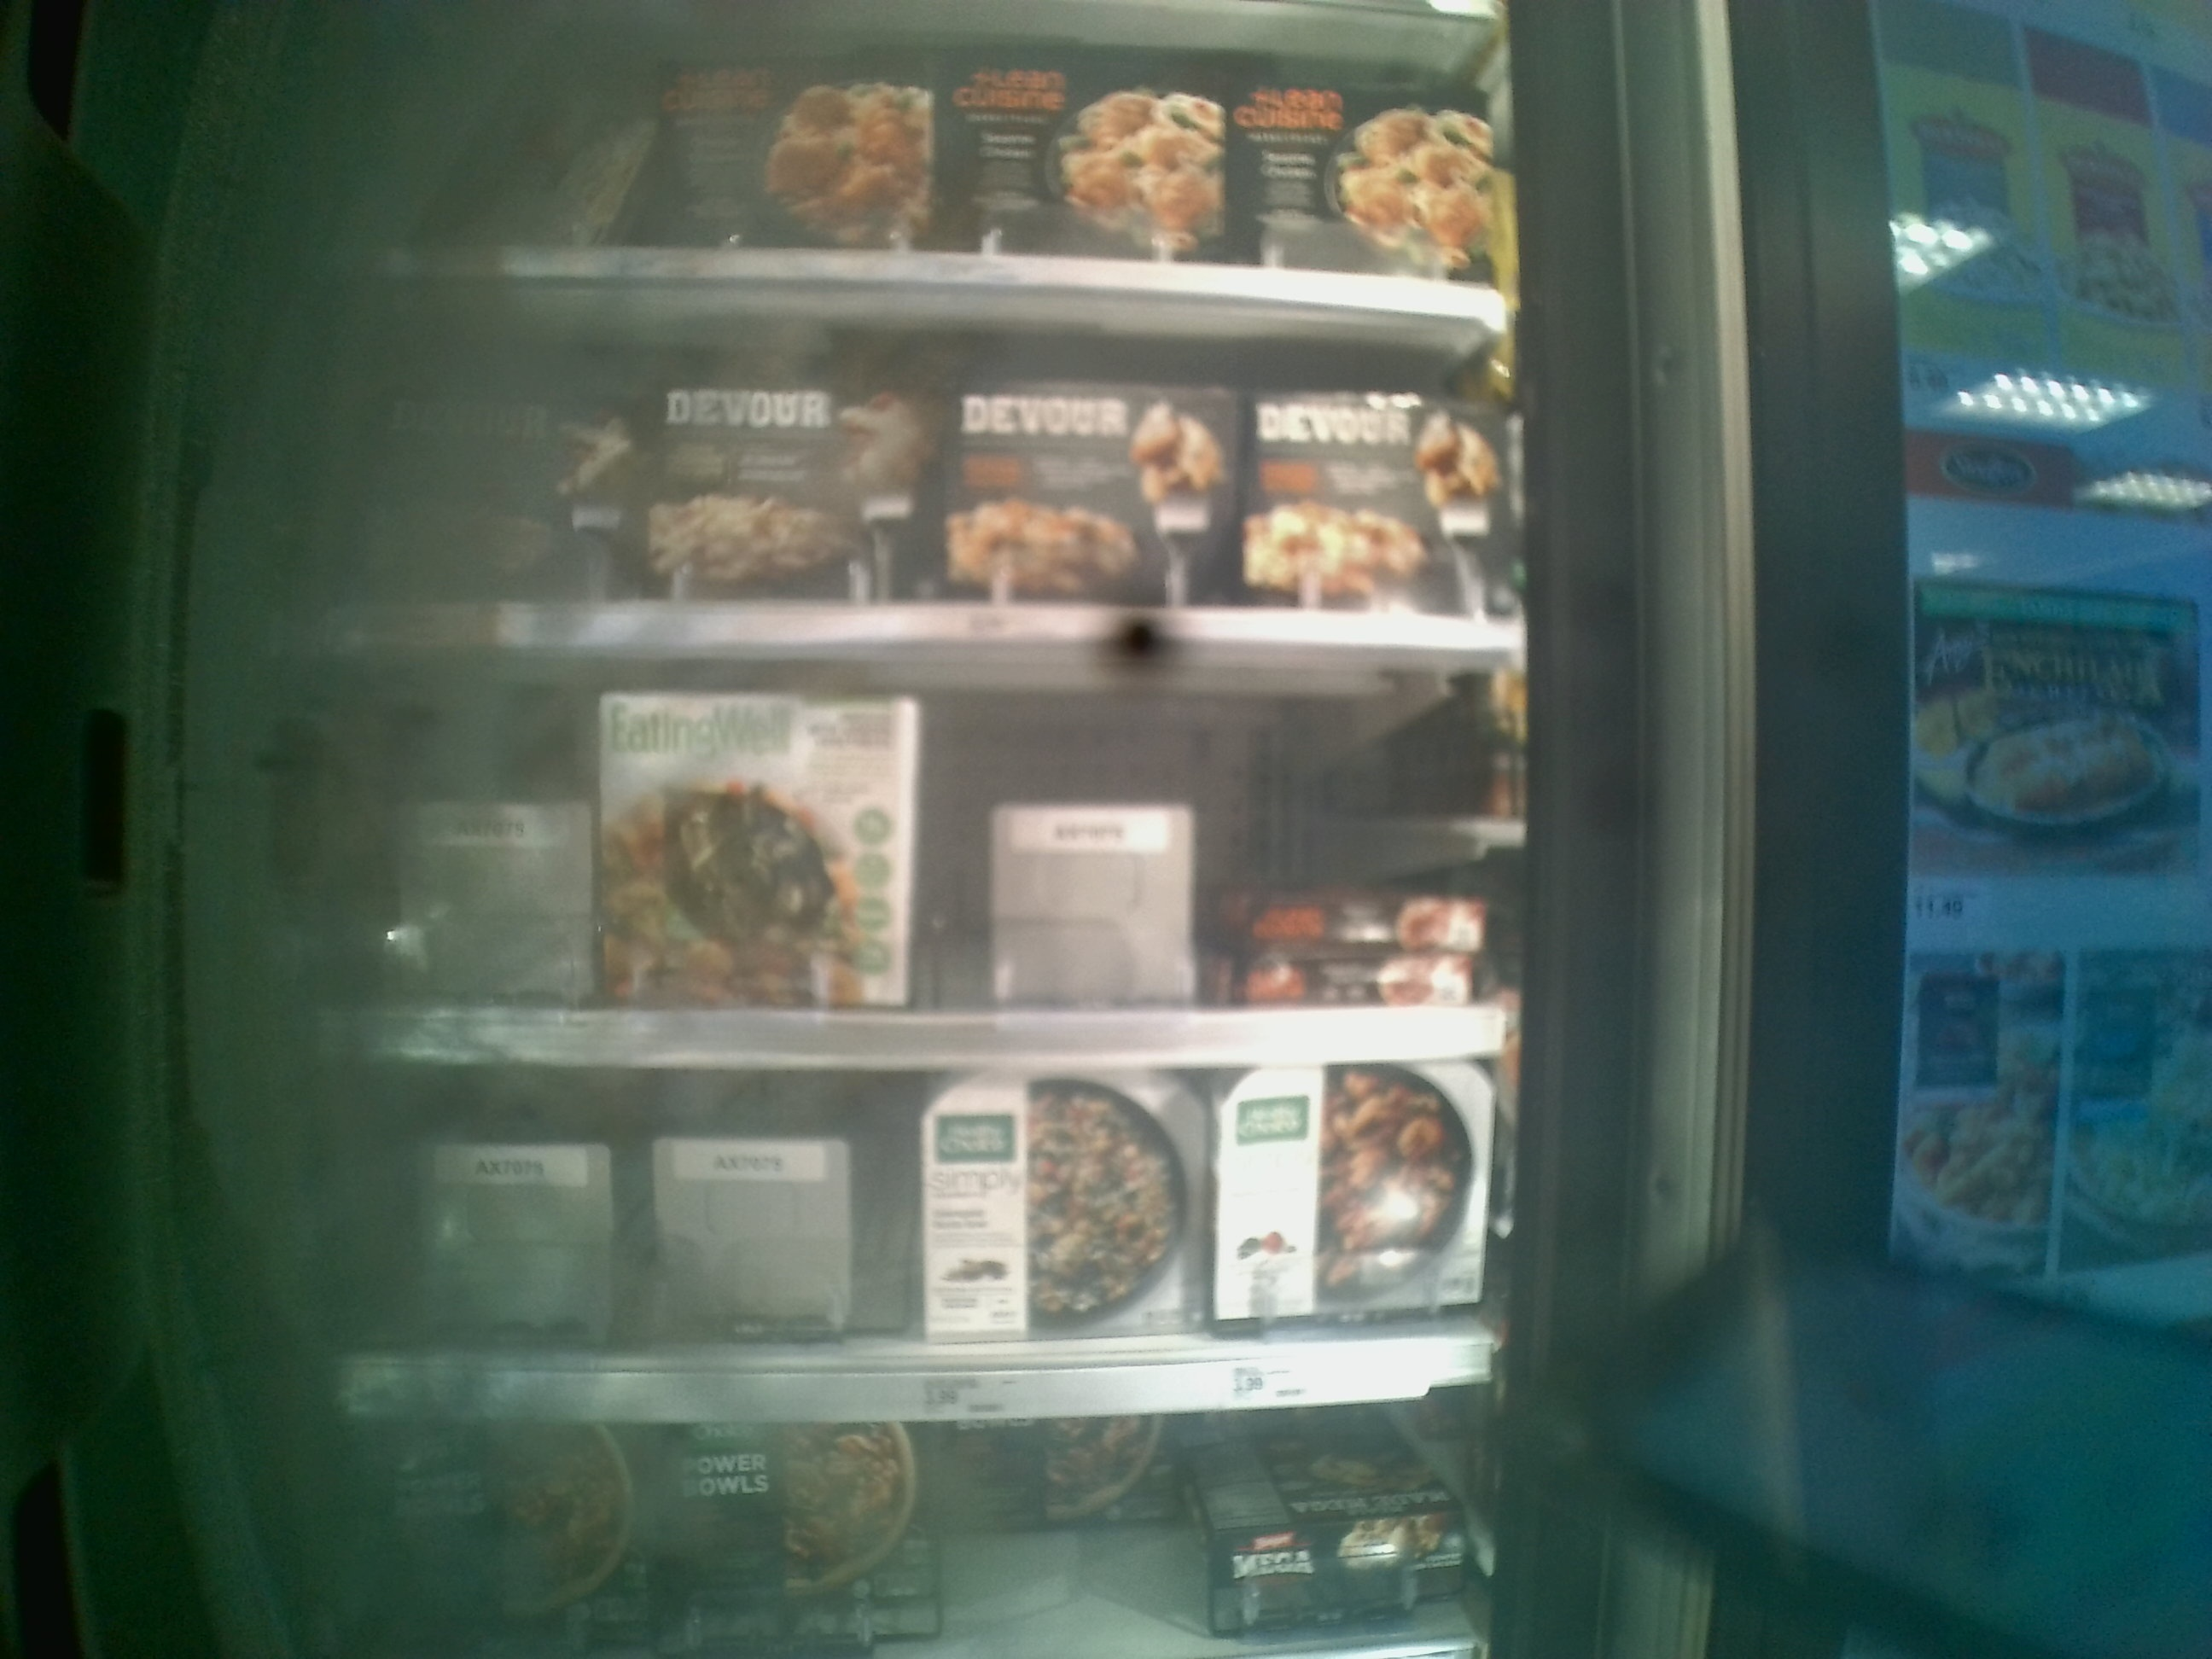shelf: (320, 652, 1543, 1065), (324, 277, 1505, 653), (319, 1068, 1515, 1419)
